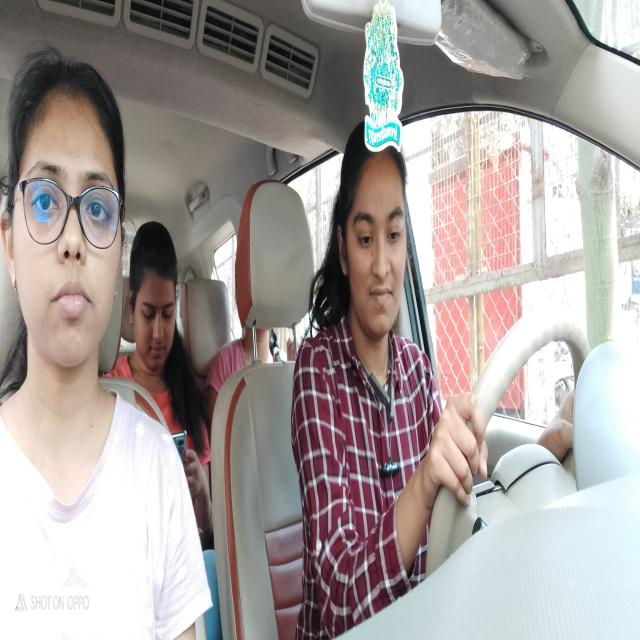person: (1, 48, 129, 372), (332, 125, 412, 340), (129, 209, 182, 377)
